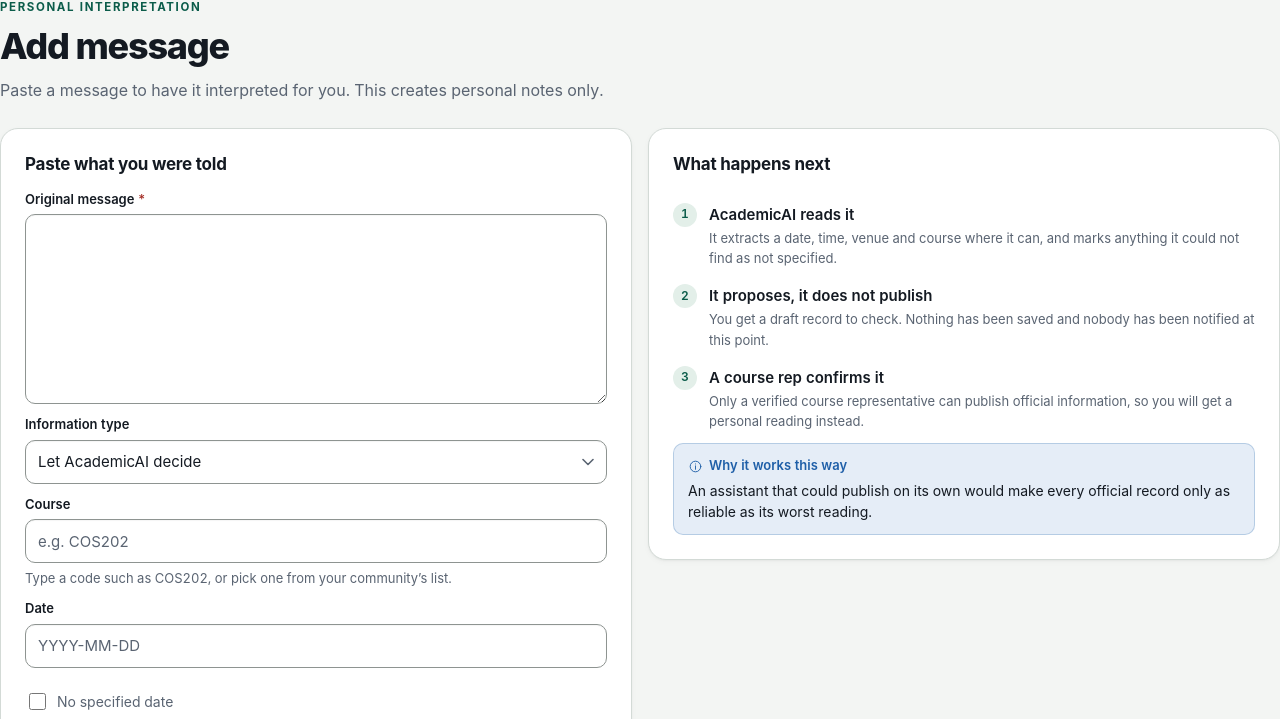
Test: Add Message › gives a student a personal interpretation with no publish action
This screenshot has width=1280, height=719.
Type "cos 202 assignmentto be submittted on friday" into the text box labelled "Original message". click: [316, 309]
box: x1=25 y1=214 x2=607 y2=404
(page scrolled)
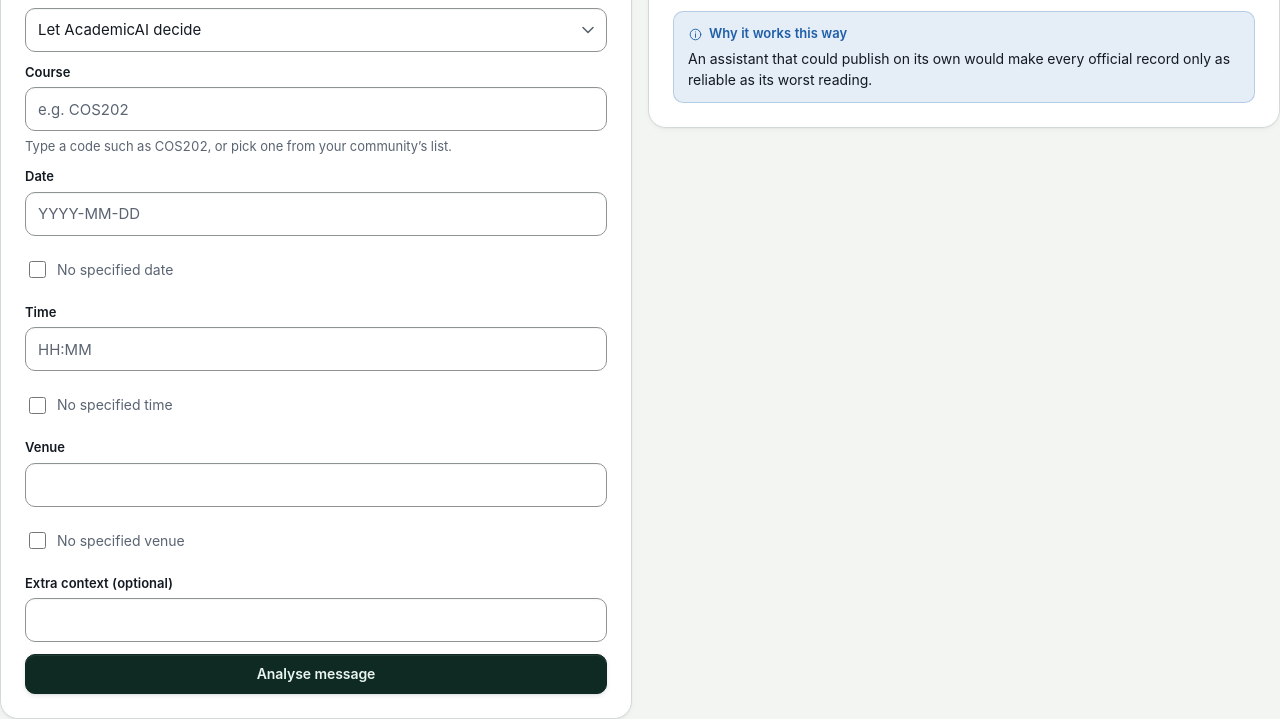
Click the button "Analyse message". click: [316, 674]
box: x1=25 y1=654 x2=607 y2=694
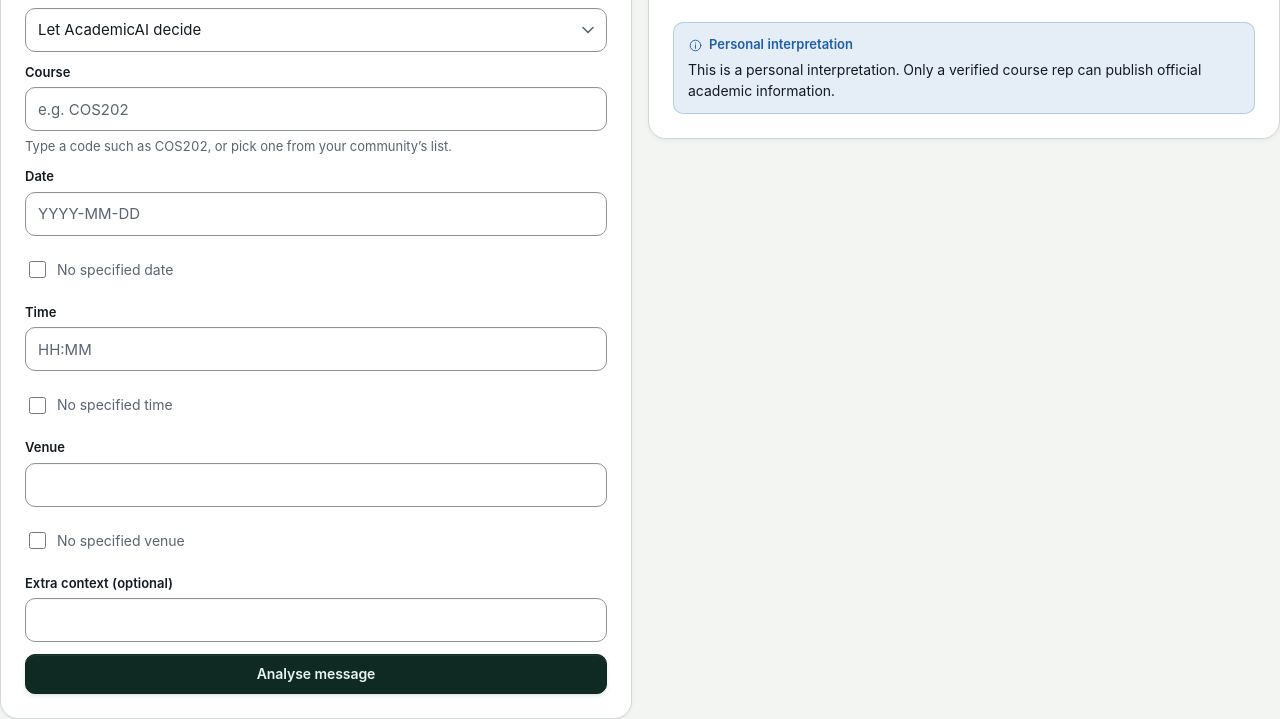
Expected: the text "Only a verified course rep can publish" is shown, x1=688 y1=61 x2=1201 y2=99
